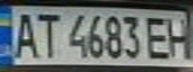3: (121, 12, 145, 60)
4: (63, 10, 87, 58)
6: (84, 11, 106, 60)
8: (103, 11, 124, 60)
A: (9, 9, 39, 60)
E: (142, 12, 175, 61)
H: (163, 14, 193, 61)
T: (33, 9, 60, 60)
